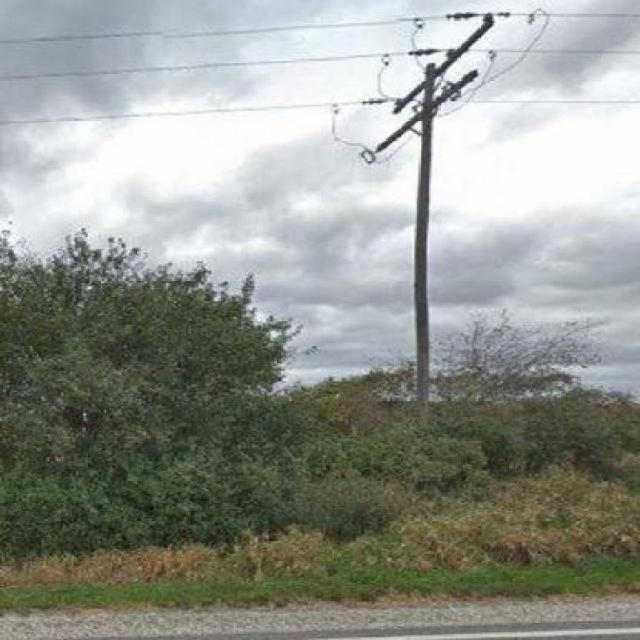pole: (344, 9, 514, 416)
